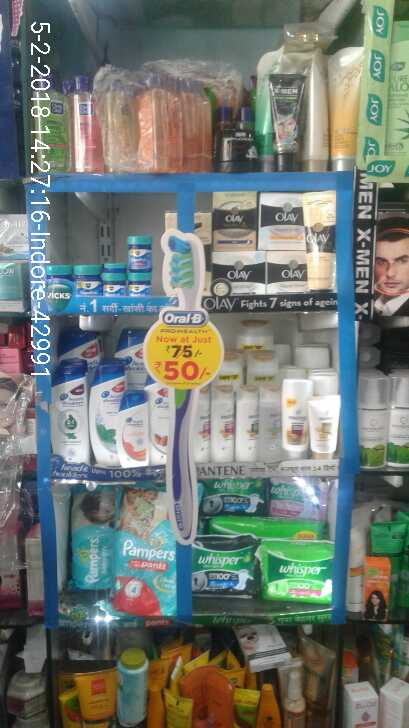beauty: (190, 387, 260, 464), (81, 362, 123, 475), (48, 356, 88, 461), (212, 188, 258, 250), (262, 190, 302, 249), (211, 251, 266, 293), (126, 390, 150, 462), (268, 248, 307, 292)
pharmacy: (65, 489, 182, 620), (48, 227, 160, 292), (258, 538, 339, 605), (187, 536, 257, 598)
